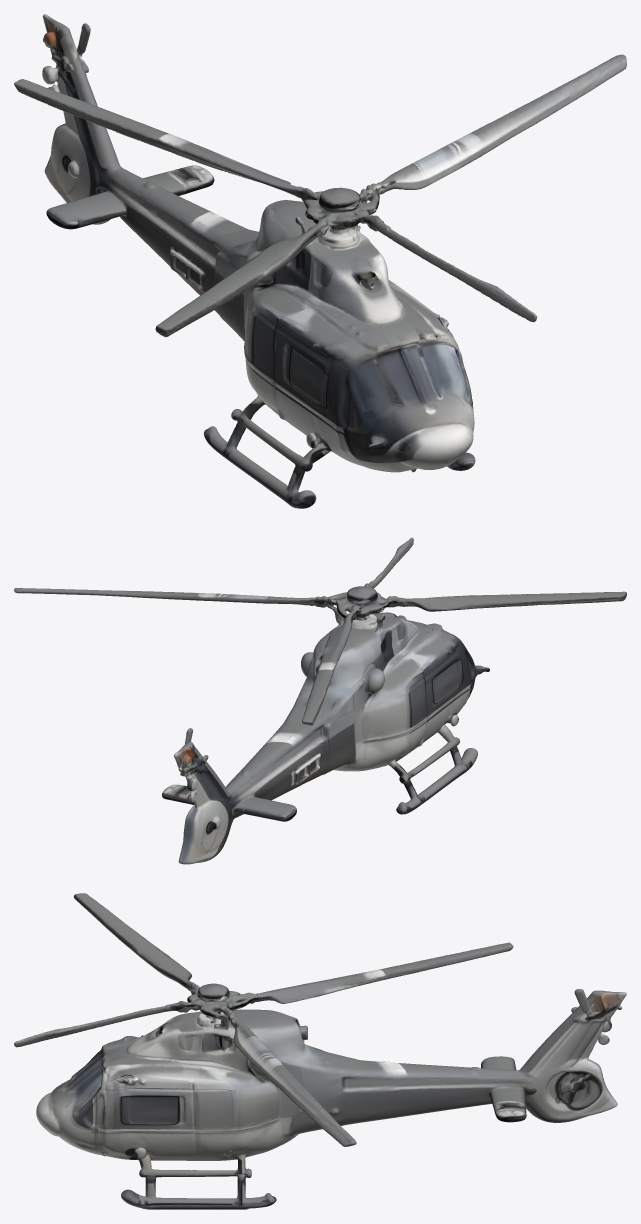
Rendered from helicopter.glb.
The picture shows the model from 3 angles, top to bottom: view 1: azimuth 30°, elevation 25°; view 2: azimuth 150°, elevation 25°; view 3: azimuth 270°, elevation 25°; orthographic projection. The views are drawn at different scales.
Visible parts, largest first — view 1: tripo_node_87d775f4-688c-41af-a614-18731751bc69; view 2: tripo_node_87d775f4-688c-41af-a614-18731751bc69; view 3: tripo_node_87d775f4-688c-41af-a614-18731751bc69.
Boxes of the visible parts, x1,y1,x2,y2 form: tripo_node_87d775f4-688c-41af-a614-18731751bc69: (14,14,626,508); tripo_node_87d775f4-688c-41af-a614-18731751bc69: (14,537,626,864); tripo_node_87d775f4-688c-41af-a614-18731751bc69: (14,893,626,1209).
Size of the model in its own units: 0.9164 by 0.3551 by 1.
1 material, 1 textured.
